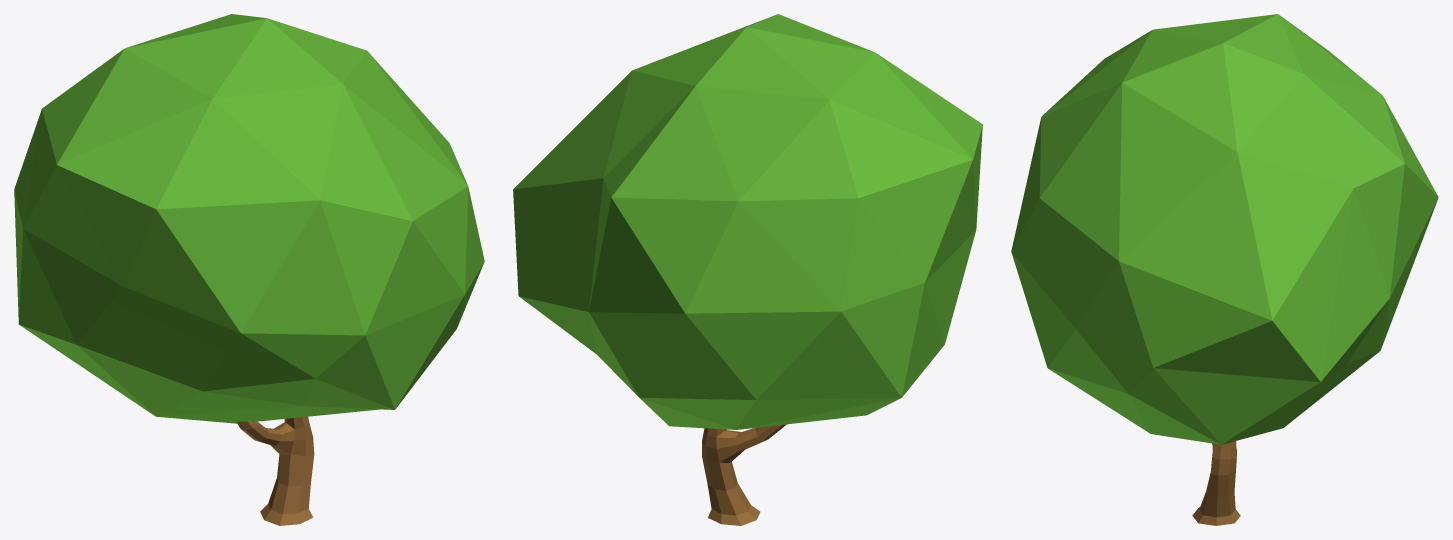
The model's file is Bush_1.fbx.
3 renders of one model, left to right at view 1: azimuth 30°, elevation 25°; view 2: azimuth 150°, elevation 25°; view 3: azimuth 270°, elevation 25°, orthographic. The views are drawn at different scales.
Visible parts, largest first — view 1: Bush_1; view 2: Bush_1; view 3: Bush_1.
Boxes of the visible parts, left/top/right/bottom form: Bush_1: left=14, top=14, right=484, bottom=525; Bush_1: left=513, top=14, right=982, bottom=525; Bush_1: left=1011, top=14, right=1438, bottom=525.
Size of the model in its own units: 193 by 214 by 178.
